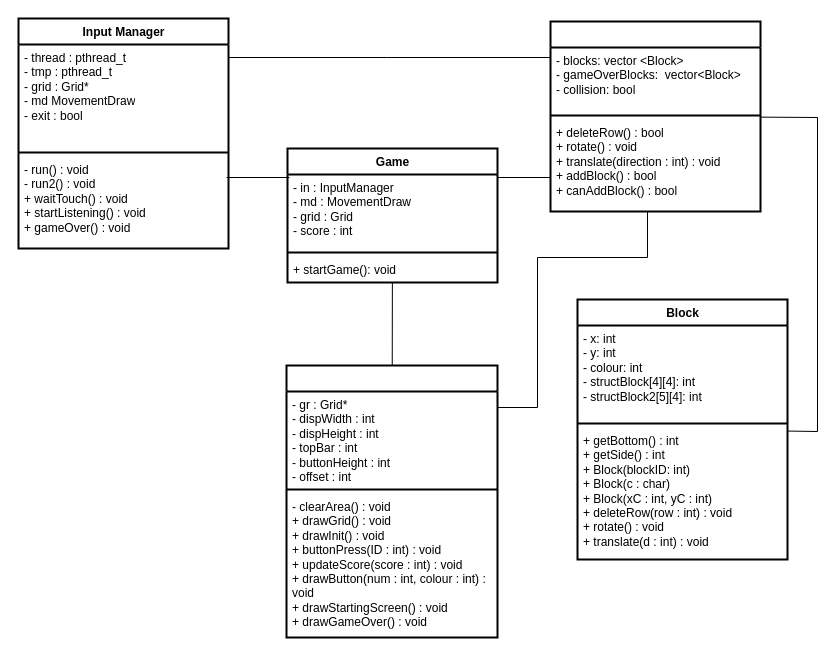
This 836x655 diagram has some shape labels left out. The box of each missing label's shape, as (x1, y1, x2, y2) in pixels:
Grid: (549, 20, 761, 212)
Movement Draw: (285, 364, 498, 638)
